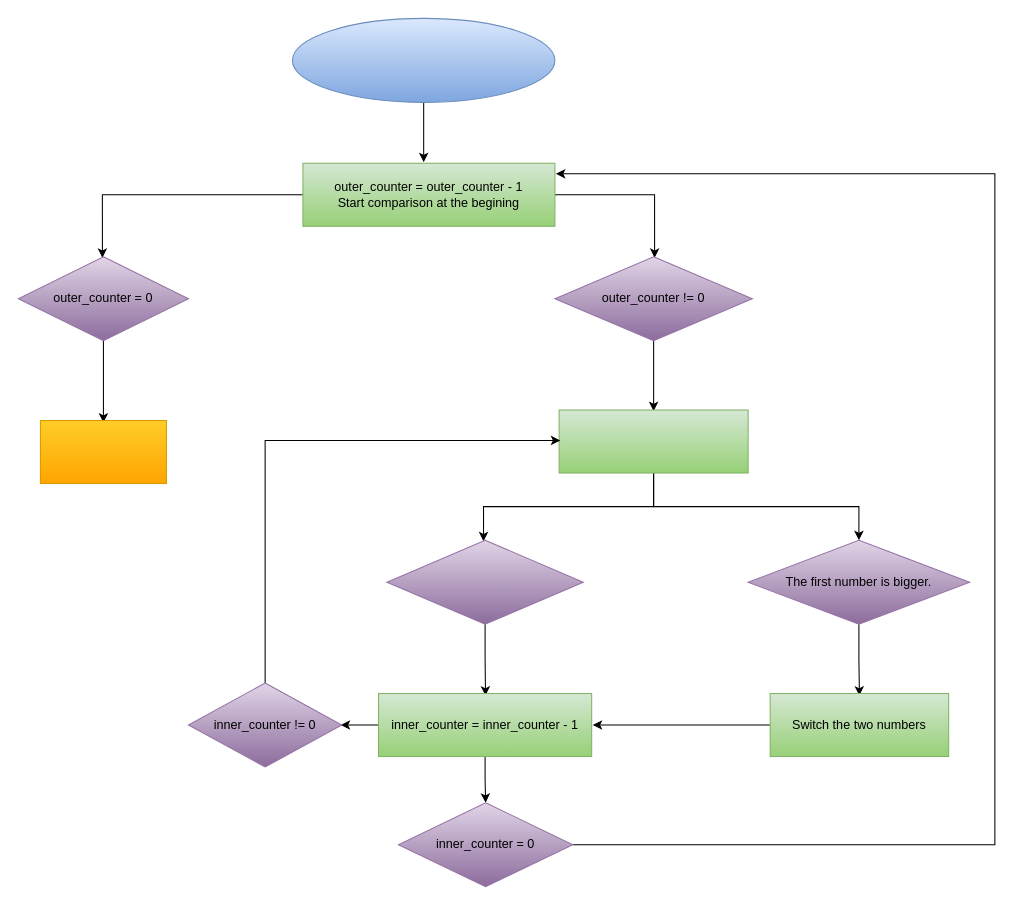
The diagram is 1022 pixels wide and 905 high, and some of its shapes have lost their labels. The centre of each missing label's shape, as x and y in pixels:
"20 Random Numbers outer_counter = 20 inner_counter = 19" goes at pixel 423 59.
"Compare the next 2 numbers" goes at pixel 653 441.
"END" goes at pixel 102 451.
"The first number is smaller." goes at pixel 484 581.
